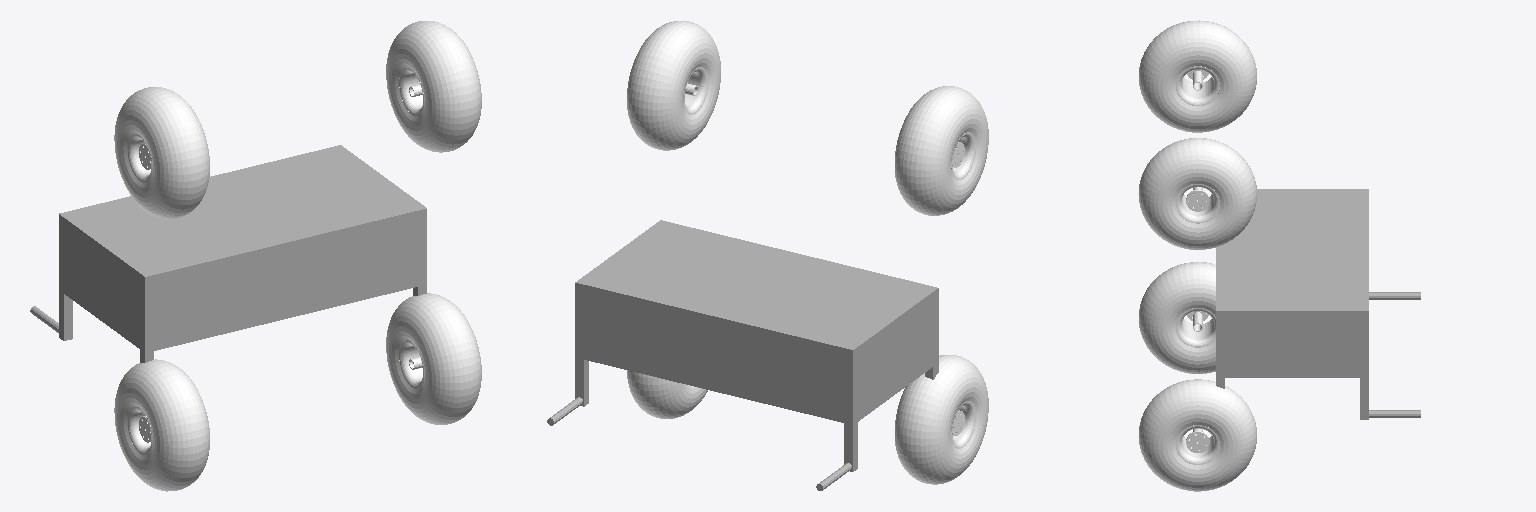
The robot description file, URDF, robot "rover_autonav":
<?xml version="1.0" encoding="utf-8"?>
<!-- This URDF was automatically created by SolidWorks to URDF Exporter! Originally created by [author] ([email redacted]) 
     Commit Version: 1.6.0-1-g15f4949  Build Version: 1.6.7594.29634
     For more information, please see http://wiki.ros.org/sw_urdf_exporter -->
<robot
  name="rover_autonav">
  <link
    name="base_link">
    <inertial>
      <origin
        xyz="0.00163442156307287 2.6929049464237E-05 -0.000219191845176014"
        rpy="0 0 0" />
      <mass
        value="29.6833675113047" />
      <inertia
        ixx="0.236115657538214"
        ixy="0.000628069802264764"
        ixz="-0.000444859381534874"
        iyy="0.425505894473617"
        iyz="0.000163321625319867"
        izz="0.395288052710963" />
    </inertial>
    <visual>
      <origin
        xyz="0 0 0"
        rpy="0 0 0" />
      <geometry>
        <mesh
          filename="package://rover_autonav/meshes_v2/base_link.STL" />
      </geometry>
      <material
        name="">
        <color
          rgba="0.752941176470588 0.752941176470588 0.752941176470588 1" />
      </material>
    </visual>
    <collision>
      <origin
        xyz="0 0 0"
        rpy="0 0 0" />
      <geometry>
        <mesh
          filename="package://rover_autonav/meshes_v2/base_link.STL" />
      </geometry>
    </collision>
  </link>
  <link
    name="FL_link">
    <inertial>
      <origin
        xyz="0.346573352290969 0.384028107926246 -0.257899763189574"
        rpy="0 0 0" />
      <mass
        value="8.57110385658357" />
      <inertia
        ixx="0.0642951423876811"
        ixy="-2.26307155178873E-16"
        ixz="8.98944025057926E-18"
        iyy="0.107218659677985"
        iyz="5.94038940268515E-17"
        izz="0.0642951423876811" />
    </inertial>
    <visual>
      <origin
        xyz="0 0 0"
        rpy="0 0 0" />
      <geometry>
        <mesh
          filename="package://rover_autonav/meshes_v2/FL_link.STL" />
      </geometry>
      <material
        name="">
        <color
          rgba="1 1 1 1" />
      </material>
    </visual>
    <collision>
      <origin
        xyz="0 0 0"
        rpy="0 0 0" />
      <geometry>
        <mesh
          filename="package://rover_autonav/meshes_v2/FL_link.STL" />
      </geometry>
    </collision>
  </link>
  <joint
    name="FL_joint"
    type="continuous">
    <origin
      xyz="0 0 0"
      rpy="0 0 0" />
    <parent
      link="base_link" />
    <child
      link="FL_link" />
    <axis
      xyz="0 -1 0" />
    <limit
      lower="0"
      upper="0"
      effort="100000"
      velocity="100000" />
  </joint>
  <link
    name="FR_link">
    <inertial>
      <origin
        xyz="0.346472064924509 -0.374439130167286 -0.257864436466565"
        rpy="0 0 0" />
      <mass
        value="8.57110385658357" />
      <inertia
        ixx="0.0642951423876811"
        ixy="2.16406288653006E-16"
        ixz="-5.67087630181899E-20"
        iyy="0.107218659677985"
        iyz="-5.95127393102304E-17"
        izz="0.0642951423876811" />
    </inertial>
    <visual>
      <origin
        xyz="0 0 0"
        rpy="0 0 0" />
      <geometry>
        <mesh
          filename="package://rover_autonav/meshes_v2/FR_link.STL" />
      </geometry>
      <material
        name="">
        <color
          rgba="1 1 1 1" />
      </material>
    </visual>
    <collision>
      <origin
        xyz="0 0 0"
        rpy="0 0 0" />
      <geometry>
        <mesh
          filename="package://rover_autonav/meshes_v2/FR_link.STL" />
      </geometry>
    </collision>
  </link>
  <joint
    name="FR_joint"
    type="continuous">
    <origin
      xyz="0 0 0"
      rpy="0 0 0" />
    <parent
      link="base_link" />
    <child
      link="FR_link" />
    <axis
      xyz="0 -1 0" />
    <limit
      lower="0"
      upper="0"
      effort="100000"
      velocity="100000" />
  </joint>
  <link
    name="RL_link">
    <inertial>
      <origin
        xyz="-0.380580629485825 0.384028107926246 -0.257864436466565"
        rpy="0 0 0" />
      <mass
        value="8.57110385658357" />
      <inertia
        ixx="0.0642951423876811"
        ixy="2.15142679955087E-16"
        ixz="-9.13947501088827E-18"
        iyy="0.107218659677985"
        iyz="6.04220861063529E-17"
        izz="0.0642951423876811" />
    </inertial>
    <visual>
      <origin
        xyz="0 0 0"
        rpy="0 0 0" />
      <geometry>
        <mesh
          filename="package://rover_autonav/meshes_v2/RL_link.STL" />
      </geometry>
      <material
        name="">
        <color
          rgba="1 1 1 1" />
      </material>
    </visual>
    <collision>
      <origin
        xyz="0 0 0"
        rpy="0 0 0" />
      <geometry>
        <mesh
          filename="package://rover_autonav/meshes_v2/RL_link.STL" />
      </geometry>
    </collision>
  </link>
  <joint
    name="RL_joint"
    type="continuous">
    <origin
      xyz="0 0 0"
      rpy="0 0 0" />
    <parent
      link="base_link" />
    <child
      link="RL_link" />
    <axis
      xyz="0 -1 0" />
    <limit
      lower="0"
      upper="0"
      effort="100000"
      velocity="100000" />
  </joint>
  <link
    name="RR_link">
    <inertial>
      <origin
        xyz="-0.380681916852288 -0.374439130167286 -0.257899763189574"
        rpy="0 0 0" />
      <mass
        value="8.57110385658357" />
      <inertia
        ixx="0.0642951423876811"
        ixy="-2.2966793291196E-16"
        ixz="4.54226952216942E-19"
        iyy="0.107218659677985"
        iyz="-5.54937673293526E-17"
        izz="0.0642951423876811" />
    </inertial>
    <visual>
      <origin
        xyz="0 0 0"
        rpy="0 0 0" />
      <geometry>
        <mesh
          filename="package://rover_autonav/meshes_v2/RR_link.STL" />
      </geometry>
      <material
        name="">
        <color
          rgba="1 1 1 1" />
      </material>
    </visual>
    <collision>
      <origin
        xyz="0 0 0"
        rpy="0 0 0" />
      <geometry>
        <mesh
          filename="package://rover_autonav/meshes_v2/RR_link.STL" />
      </geometry>
    </collision>
  </link>
  <joint
    name="RR_joint"
    type="continuous">
    <origin
      xyz="0 0 0"
      rpy="0 0 0" />
    <parent
      link="base_link" />
    <child
      link="RR_link" />
    <axis
      xyz="0 -1 0" />
    <limit
      lower="0"
      upper="0"
      effort="100000"
      velocity="100000" />
  </joint>
</robot>

--- Render facts (derived) ---
3 views of the same robot in one strip: view 1: azimuth 30°, elevation 25°; view 2: azimuth 150°, elevation 25°; view 3: azimuth 270°, elevation 25° (orthographic).
Robot: rover_autonav — 5 links, 4 joints (4 continuous); root link base_link; default pose: all joints at 0.
Links seen in each view (by area): view 1: base_link, FR_link, FL_link, RL_link, RR_link; view 2: base_link, FR_link, FL_link, RR_link, RL_link; view 3: base_link, FL_link, FR_link, RL_link, RR_link.
Boxes of the visible links, x1=… form: base_link: x1=30, y1=145, x2=426, y2=362; FR_link: x1=114, y1=87, x2=209, y2=218; FL_link: x1=386, y1=21, x2=481, y2=152; RL_link: x1=386, y1=293, x2=481, y2=424; RR_link: x1=114, y1=359, x2=209, y2=491; base_link: x1=547, y1=220, x2=938, y2=490; FR_link: x1=895, y1=86, x2=988, y2=215; FL_link: x1=627, y1=21, x2=720, y2=150; RR_link: x1=895, y1=355, x2=988, y2=484; RL_link: x1=627, y1=370, x2=707, y2=418; base_link: x1=1216, y1=189, x2=1420, y2=419; FL_link: x1=1139, y1=138, x2=1256, y2=249; FR_link: x1=1139, y1=20, x2=1256, y2=132; RL_link: x1=1139, y1=379, x2=1256, y2=491; RR_link: x1=1139, y1=262, x2=1215, y2=373.
Bounding box of the posed robot: 0.8978 × 0.7713 × 1.05 m (x, y, z).
Meshes: 5 distinct files referenced, 5 mesh visuals loaded (5 binary STL).
